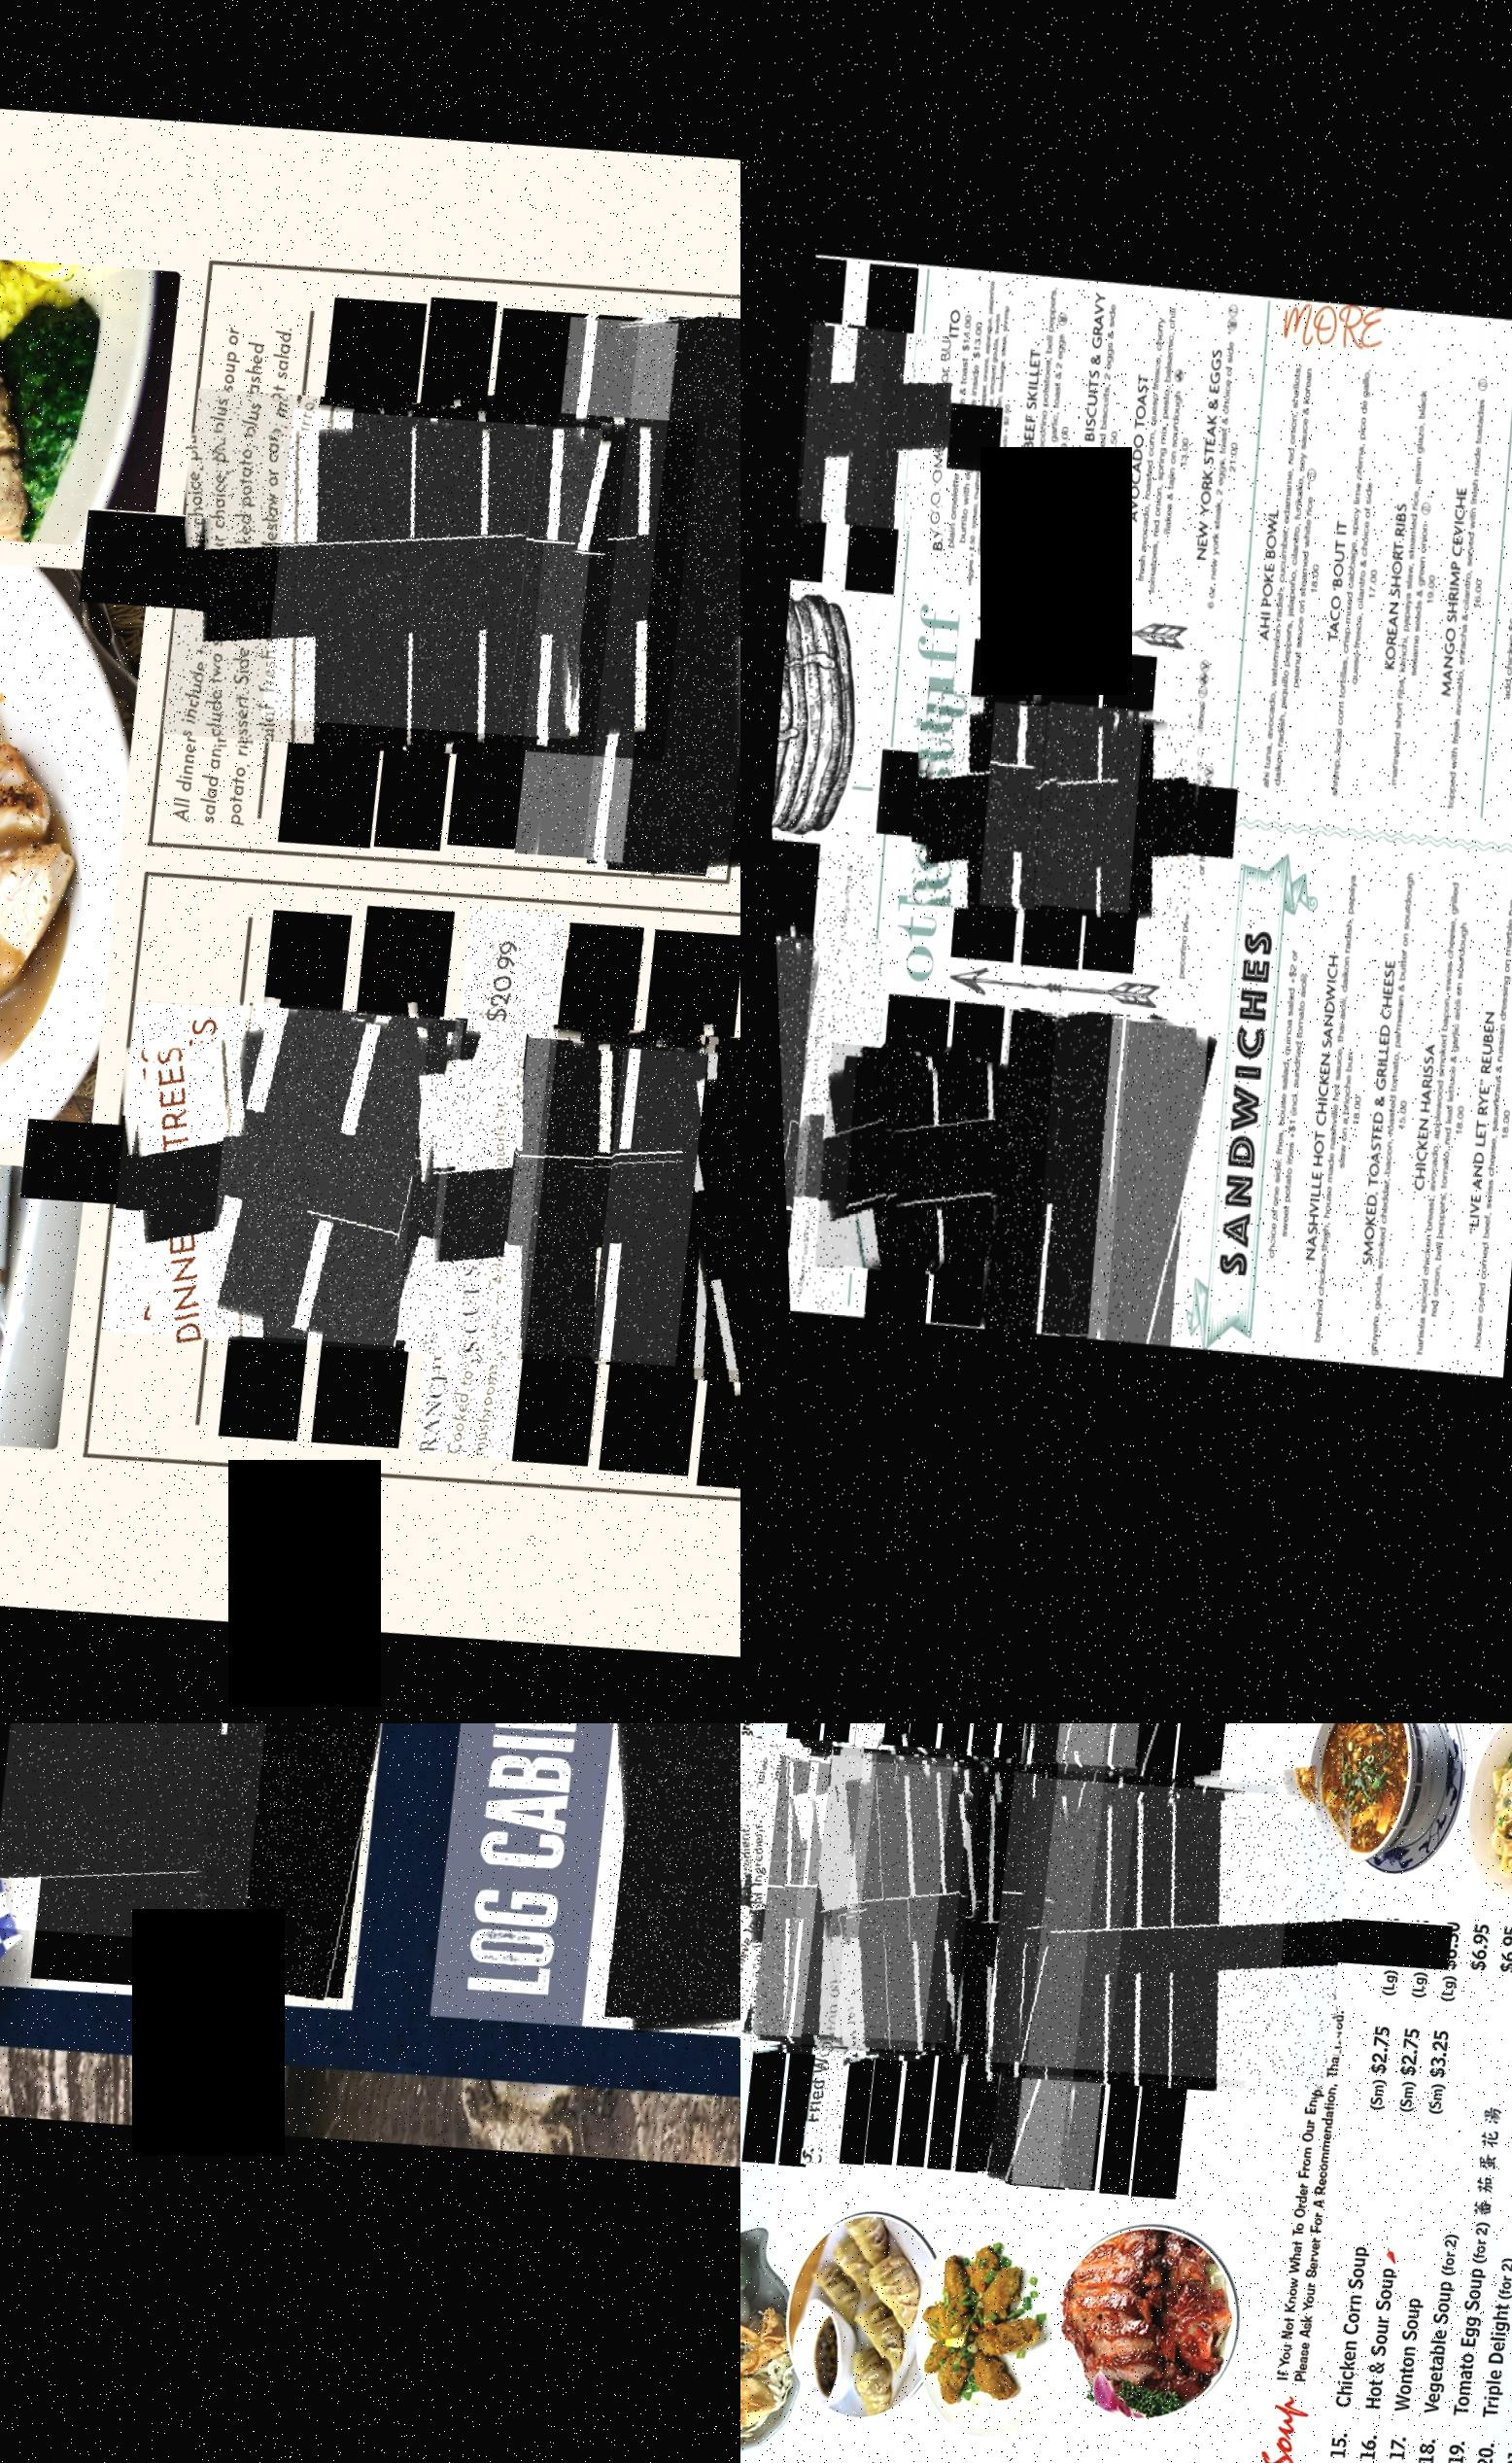Menu-Items: (141, 376, 552, 799), (311, 392, 710, 802), (74, 985, 469, 1392), (174, 992, 564, 1392), (366, 1008, 740, 1416), (990, 1742, 1366, 2130), (244, 401, 614, 779), (927, 1743, 1285, 2115), (782, 1726, 1141, 2095), (816, 1735, 1164, 2092), (483, 324, 698, 887), (967, 1758, 1306, 2108), (374, 915, 578, 1481), (740, 1724, 1053, 2085), (740, 1733, 1069, 2074), (552, 318, 740, 908), (770, 1740, 1097, 2076), (469, 1029, 740, 1416), (740, 1724, 992, 2076), (985, 1724, 1169, 2201), (960, 1724, 1138, 2197), (740, 1724, 967, 2079), (1287, 1919, 1428, 2463), (1320, 1921, 1456, 2463), (1375, 1930, 1512, 2463), (151, 1724, 394, 2023), (1348, 1925, 1482, 2463), (944, 1724, 1095, 2180), (566, 1045, 740, 1429), (556, 1724, 740, 2085), (0, 1724, 262, 1974), (1269, 864, 1392, 1372), (1370, 874, 1493, 1383), (1218, 357, 1348, 832), (777, 1724, 914, 2169), (1324, 867, 1438, 1374), (1289, 364, 1408, 836), (1408, 1932, 1512, 2463), (767, 841, 883, 1314), (802, 1022, 995, 1297), (1347, 380, 1461, 843), (1403, 380, 1512, 848), (893, 670, 1083, 938), (1067, 1013, 1210, 1367), (1020, 691, 1204, 948), (869, 1041, 1050, 1293), (967, 688, 1143, 936), (1426, 887, 1512, 1390), (909, 264, 1032, 607), (1011, 1006, 1130, 1355), (793, 311, 963, 551), (1438, 1928, 1512, 2463), (643, 1038, 740, 1443), (1101, 290, 1213, 632), (768, 913, 888, 1223), (958, 1006, 1065, 1346), (992, 274, 1092, 616), (1173, 297, 1269, 644), (1050, 287, 1139, 619), (1466, 1937, 1512, 2463), (786, 311, 893, 531), (768, 925, 828, 1224), (1494, 1937, 1512, 2463), (1493, 401, 1512, 846)
